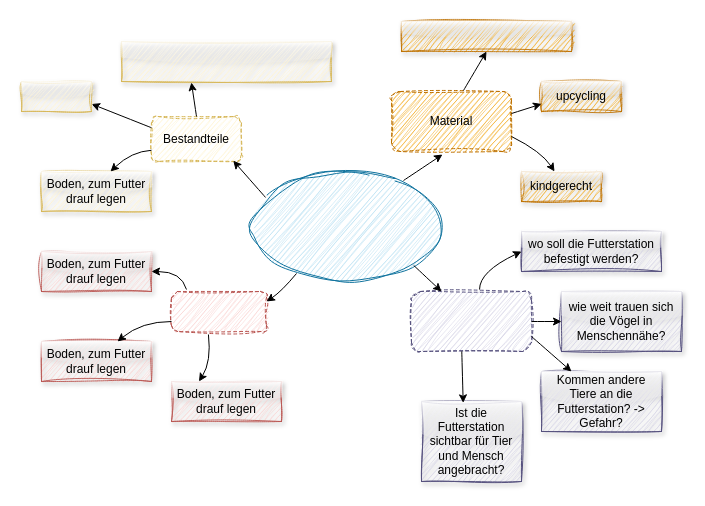
Some shapes in this 705 by 506 pixel diagram are drawn without their labels. Each missing label, with the centre of its shape:
"Vogelschale mit Futter und Dach": point 346,226
Dach: point 57,97
Gewindestab zum Stabilisieren und Verbinden von Dach und Boden: point 227,62
Individuell: point 218,311
Ort: point 471,321
tierfreundlich und wetterfest: point 487,37
